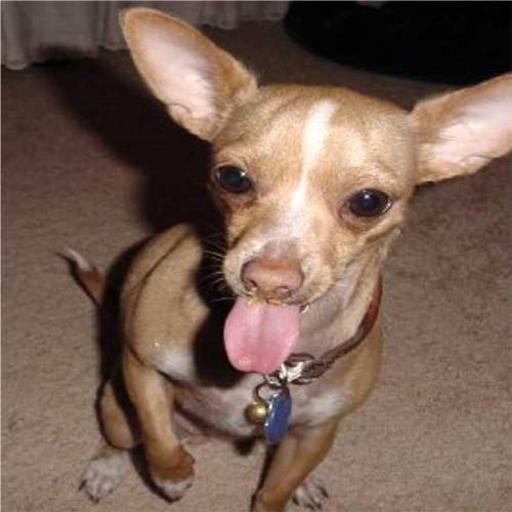dog_face: (126, 11, 512, 312)
